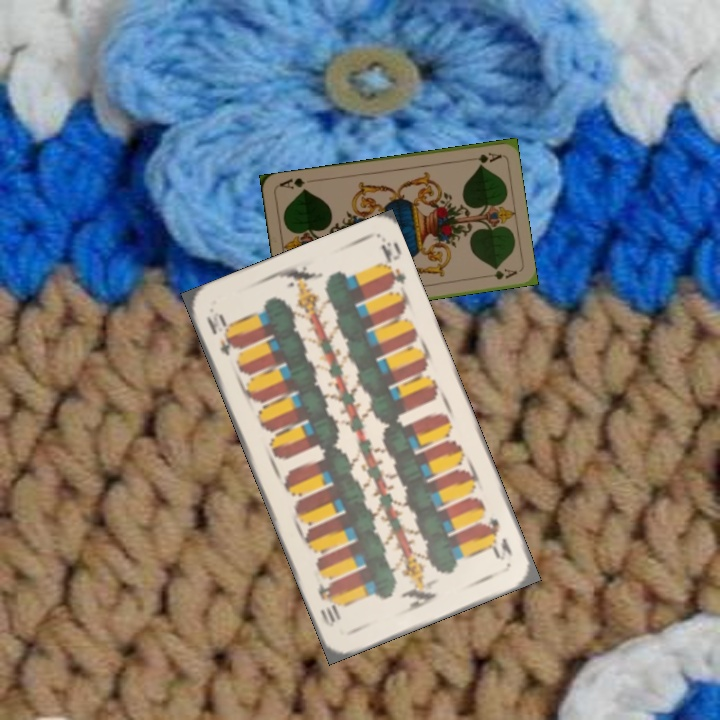E10: (202, 309, 239, 359), (481, 512, 515, 563)
GA: (462, 148, 503, 166)
